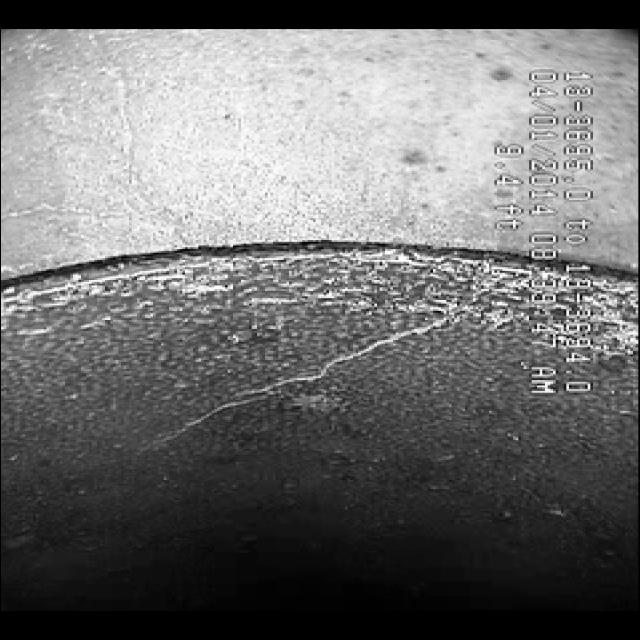Crack: (164, 312, 453, 438)
